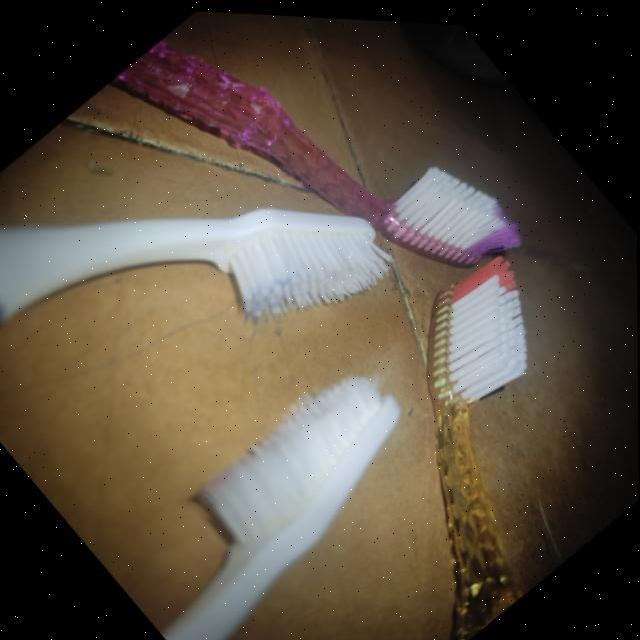toothbrush: (0, 404, 126, 640), (0, 180, 54, 640), (400, 104, 430, 640)
